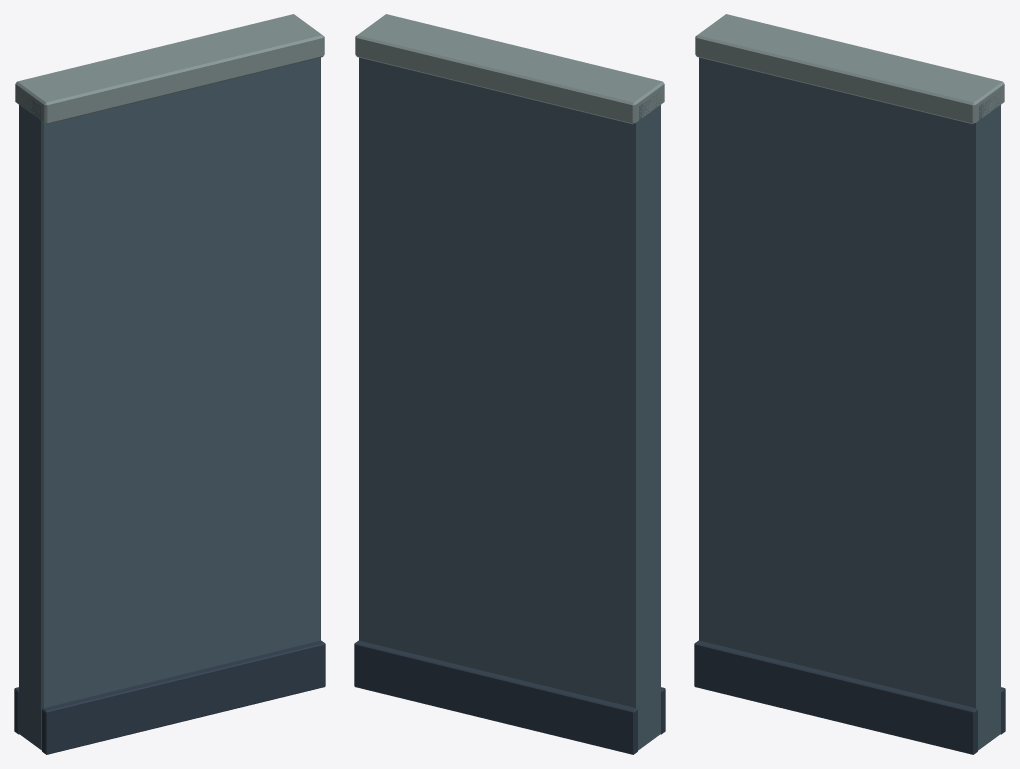
File: wall_module.glb
The picture shows the model from 3 angles, left to right: view 1: azimuth 30°, elevation 25°; view 2: azimuth 150°, elevation 25°; view 3: azimuth 330°, elevation 25°; orthographic projection.
Parts seen in each view (by area): view 1: wall_module__wall, wall_module__metal_light, wall_module__metal; view 2: wall_module__wall, wall_module__metal_light, wall_module__metal; view 3: wall_module__wall, wall_module__metal_light, wall_module__metal.
Part boxes in pixels (x1=…): wall_module__wall: x1=19, y1=57, x2=320, y2=750; wall_module__metal_light: x1=15, y1=14, x2=324, y2=124; wall_module__metal: x1=14, y1=640, x2=325, y2=754; wall_module__wall: x1=359, y1=57, x2=660, y2=750; wall_module__metal_light: x1=355, y1=14, x2=664, y2=124; wall_module__metal: x1=354, y1=640, x2=665, y2=754; wall_module__wall: x1=699, y1=57, x2=1000, y2=750; wall_module__metal_light: x1=695, y1=14, x2=1004, y2=124; wall_module__metal: x1=694, y1=640, x2=1005, y2=754.
Bounding box in the file's own units: 1.2 × 2.66 × 0.241.
